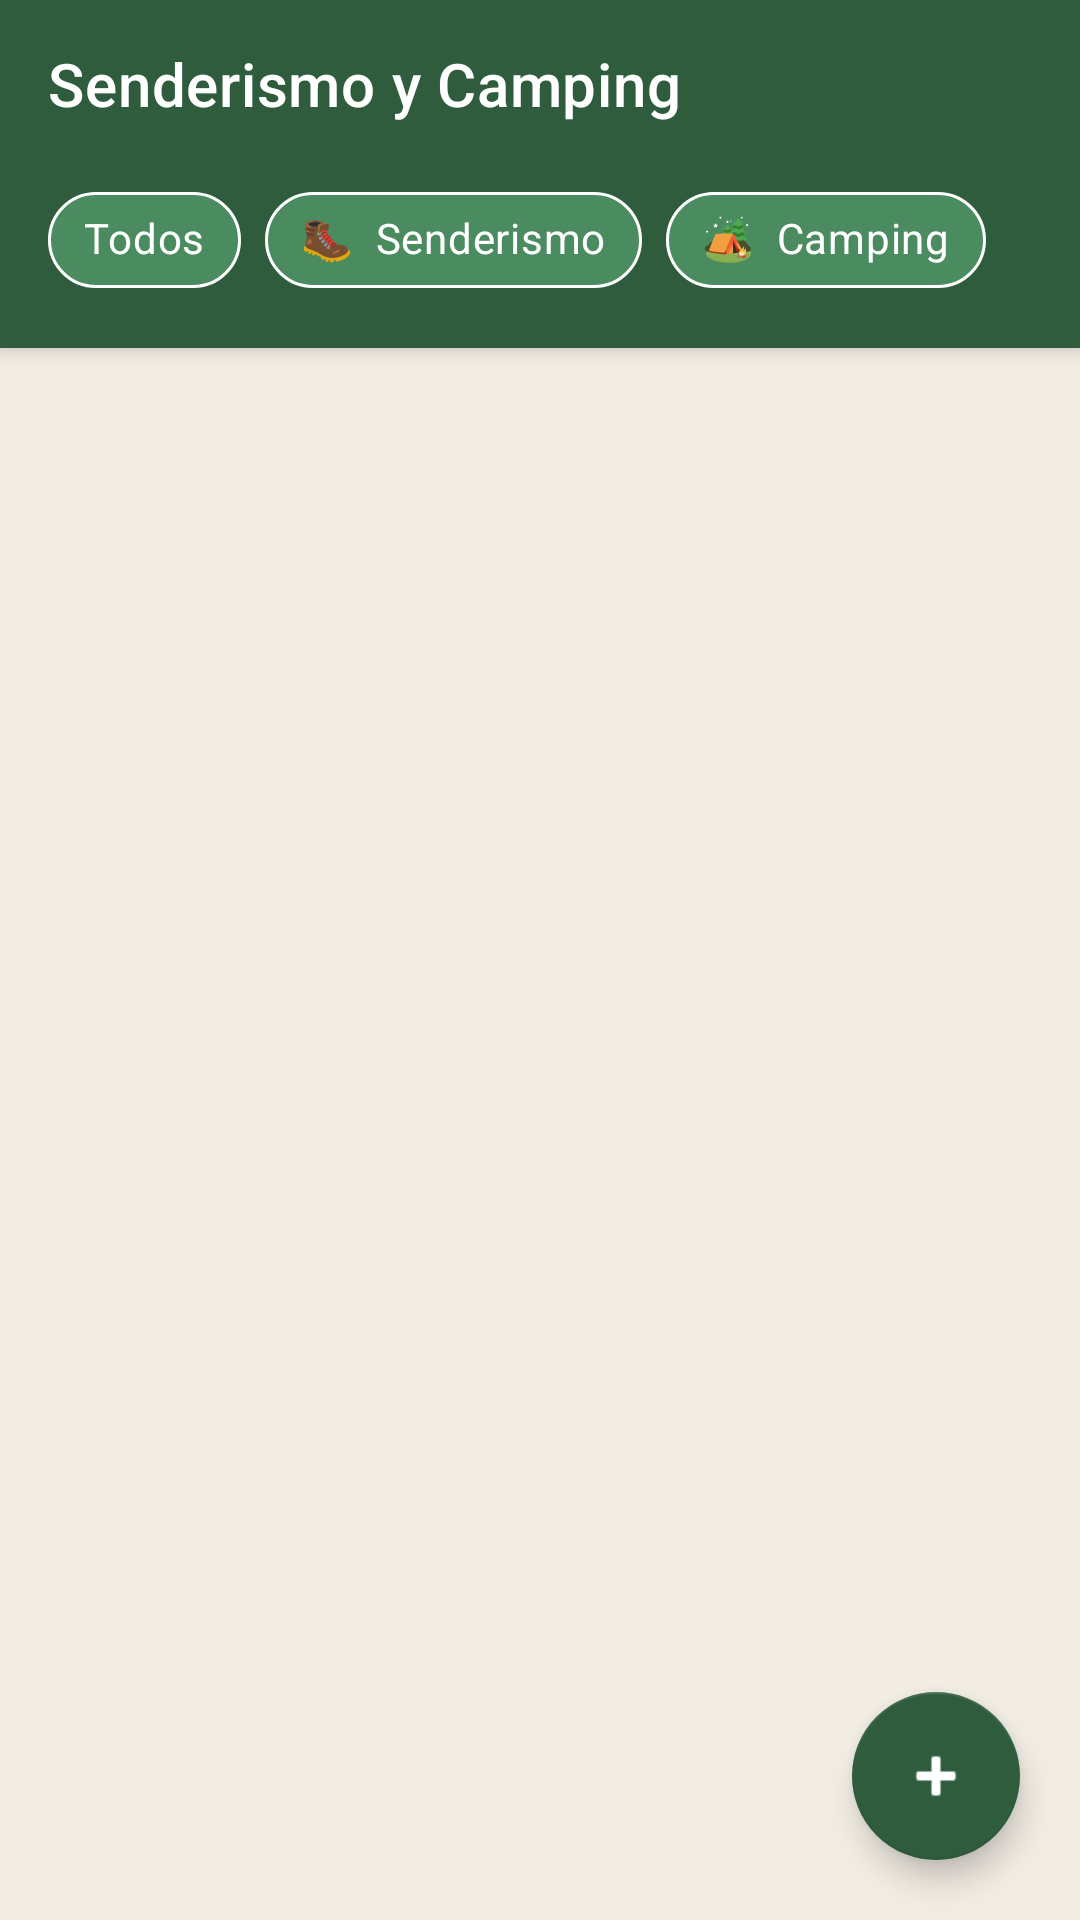

Where icons sit on this 1080px x 1920px app screen, as (x1, y1, x2, y2):
Agregar lugar: (852, 1692, 1020, 1860)
